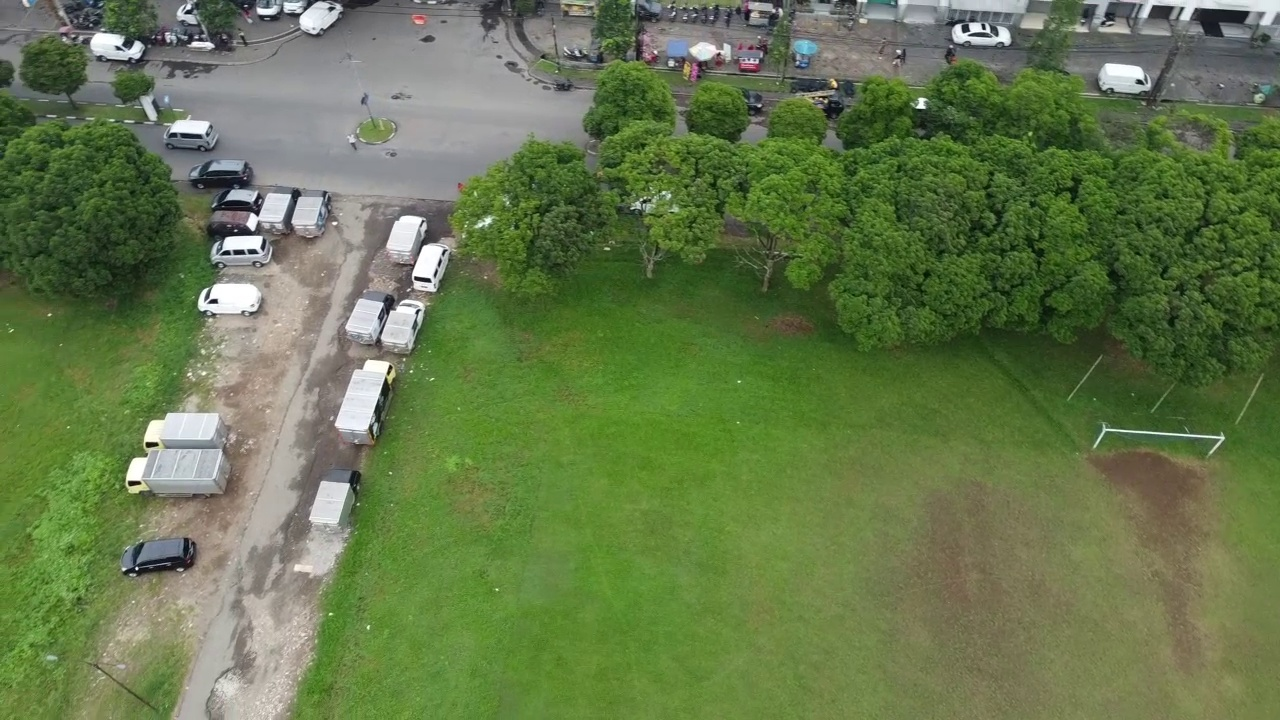mobil: (124, 533, 200, 576), (199, 278, 266, 322), (190, 151, 258, 191), (1096, 54, 1154, 100), (209, 233, 275, 270), (160, 113, 223, 151), (952, 19, 1015, 56), (414, 239, 450, 296), (91, 28, 144, 66), (294, 2, 349, 36), (211, 206, 263, 237), (215, 181, 261, 215)
